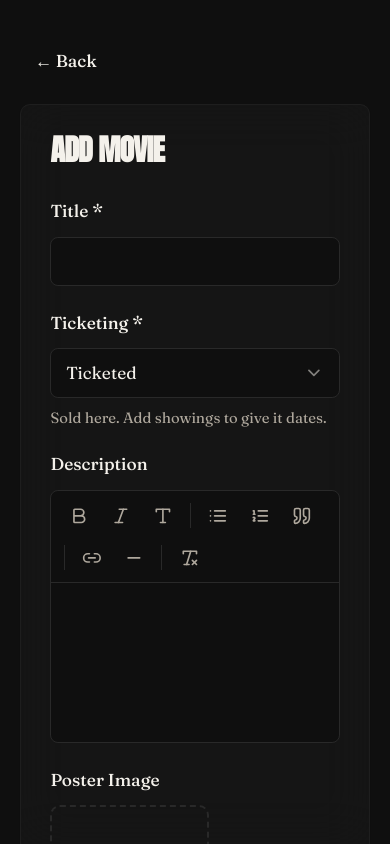
Test case: MovieForm — the word is External, not RSVP › offers External where an event form offers RSVP, for the same stored value
Click the dropdown named "Ticketing *".
click(101, 372)  # box [50,348,340,398]
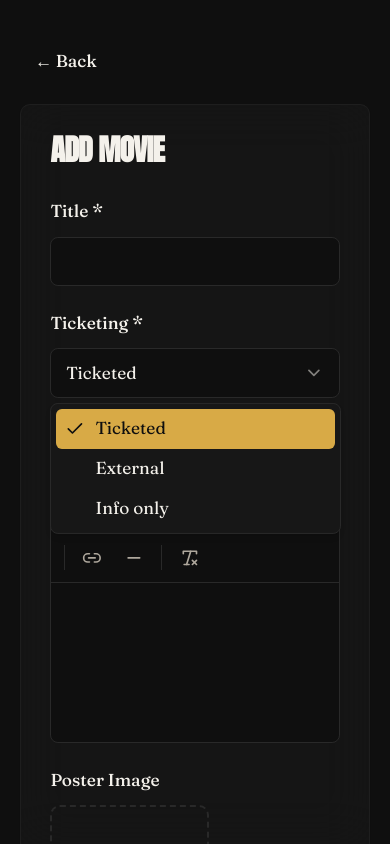
Now the option "External" is shown, box [96,457,164,478]
